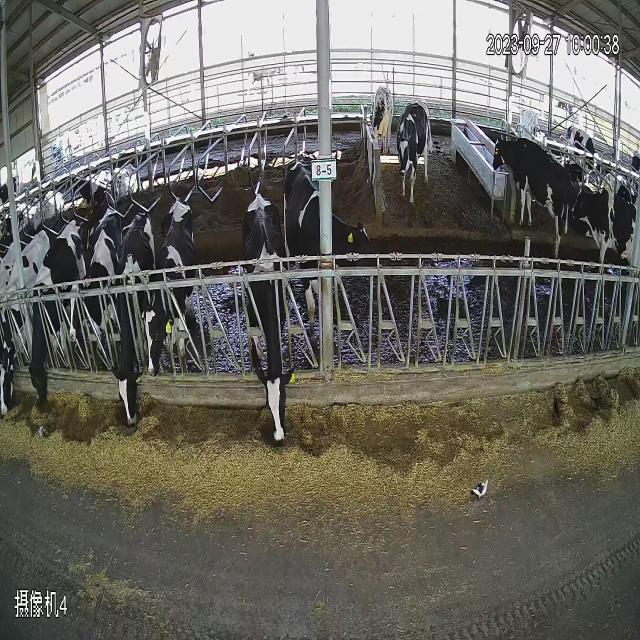drinking: (480, 118, 584, 249)
feeding: (236, 161, 296, 493), (110, 176, 144, 472), (31, 201, 74, 432), (0, 191, 30, 452)
lying down: (106, 128, 146, 204), (75, 146, 111, 218), (26, 188, 68, 228), (4, 182, 32, 240)
standing: (488, 126, 578, 241), (570, 167, 640, 280), (560, 98, 602, 173)
